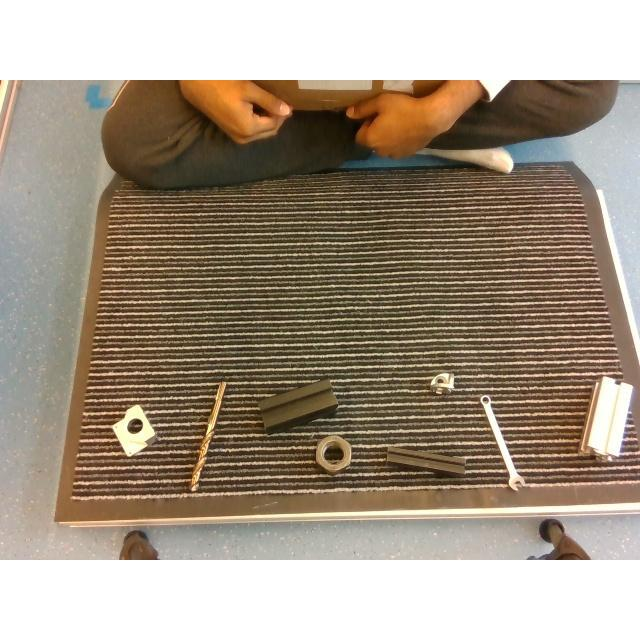Drill: (188, 382, 226, 492)
F20_20_B: (386, 446, 466, 474)
M30: (315, 435, 351, 473)
S40_40_B: (259, 379, 337, 431)
S40_40_G: (580, 376, 632, 459)
